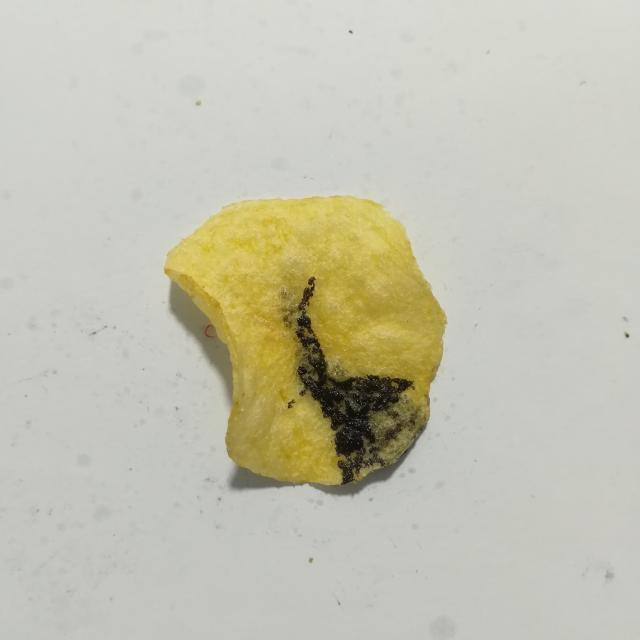chip: (165, 196, 446, 485)
damaged: (295, 277, 414, 485), (287, 398, 296, 409)
semi-damaged: (363, 392, 430, 466), (280, 286, 308, 393), (325, 353, 358, 381)
